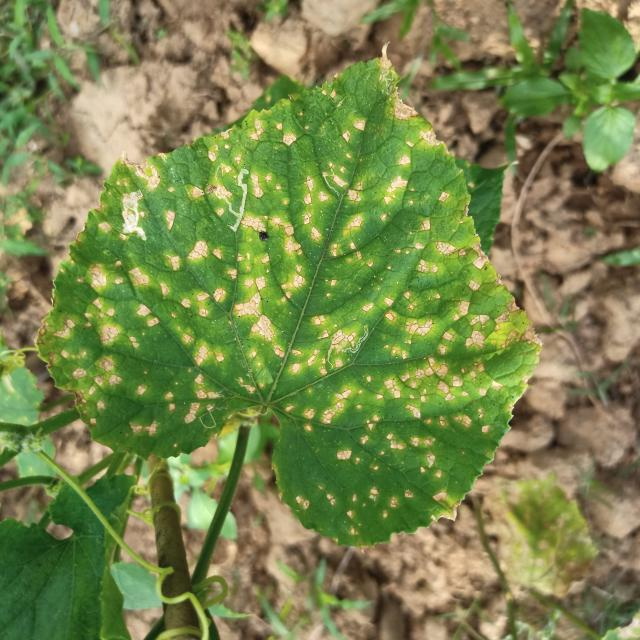disease_cucumber: (91, 86, 521, 510)
